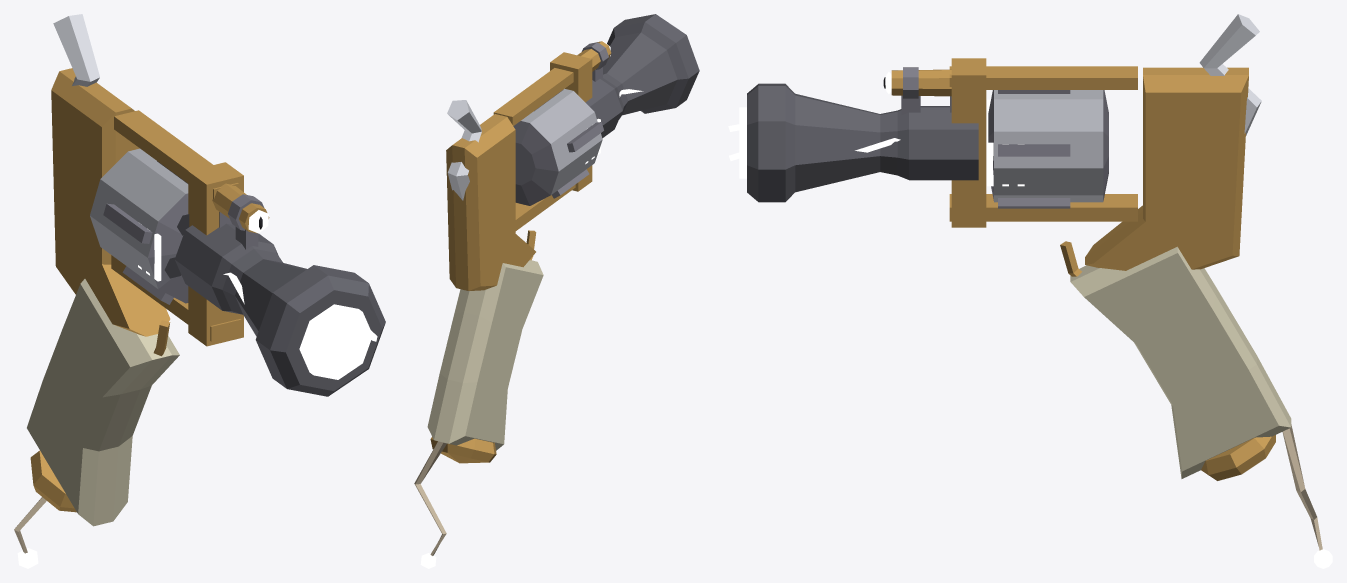
The model's file is gun-belly-gun.glb.
The picture shows the model from 3 angles, left to right: view 1: azimuth 30°, elevation 25°; view 2: azimuth 150°, elevation 25°; view 3: azimuth 270°, elevation 25°; orthographic projection. The views are drawn at different scales.
Visible parts, largest first — view 1: gun-belly-gun, sway_sinew; view 2: gun-belly-gun, sway_sinew; view 3: gun-belly-gun, sway_sinew.
Part boxes in pixels (x1=…): gun-belly-gun: x1=27, y1=14, x2=385, y2=526; sway_sinew: x1=14, y1=497, x2=46, y2=568; gun-belly-gun: x1=427, y1=14, x2=699, y2=463; sway_sinew: x1=414, y1=441, x2=446, y2=568; gun-belly-gun: x1=739, y1=14, x2=1291, y2=480; sway_sinew: x1=1282, y1=424, x2=1332, y2=568.
Size of the model in its own units: 0.1331 by 0.6317 by 0.6257.
